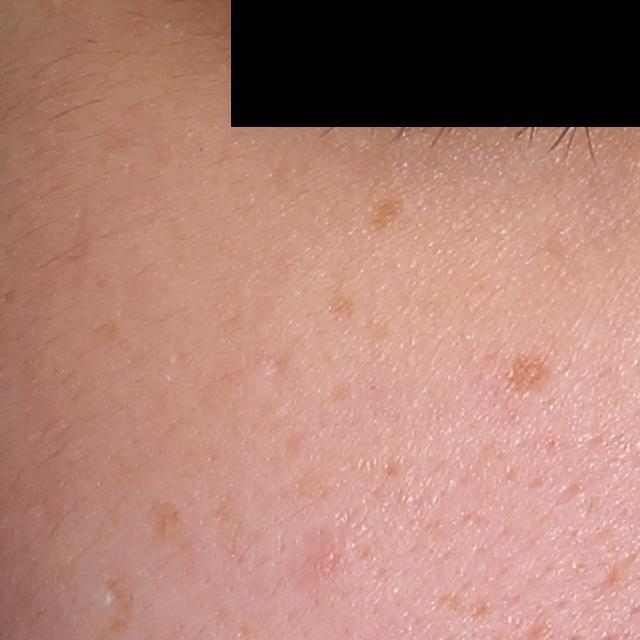atrophic_scar: (264, 349, 290, 376)
melasma: (498, 345, 561, 406), (366, 195, 411, 234), (148, 501, 185, 541), (326, 293, 359, 318)
